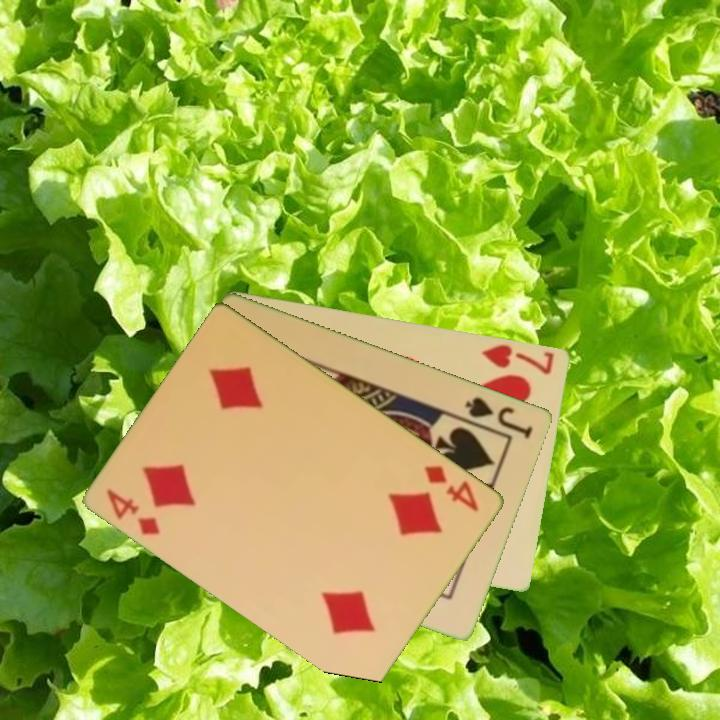4d: (421, 461, 483, 515), (103, 486, 164, 538)
7h: (478, 340, 557, 377)
Js: (461, 393, 536, 442)
